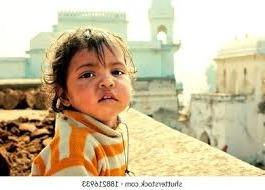Human: (36, 28, 151, 174)
